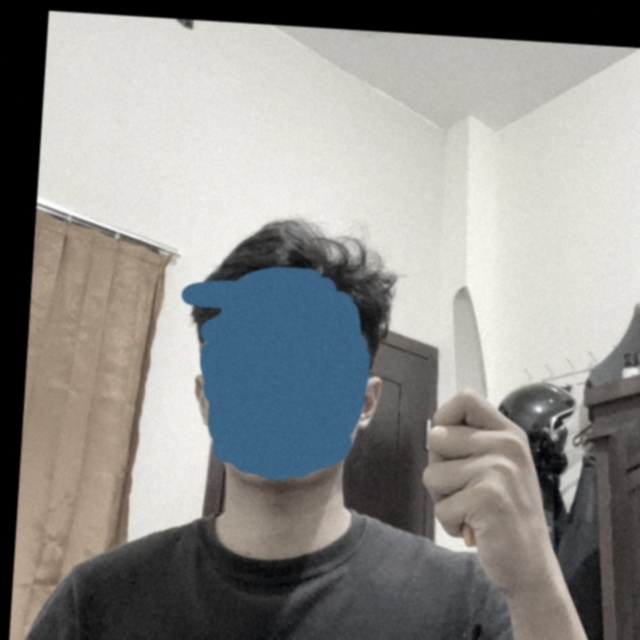Sharp-Object: (445, 283, 500, 402)
